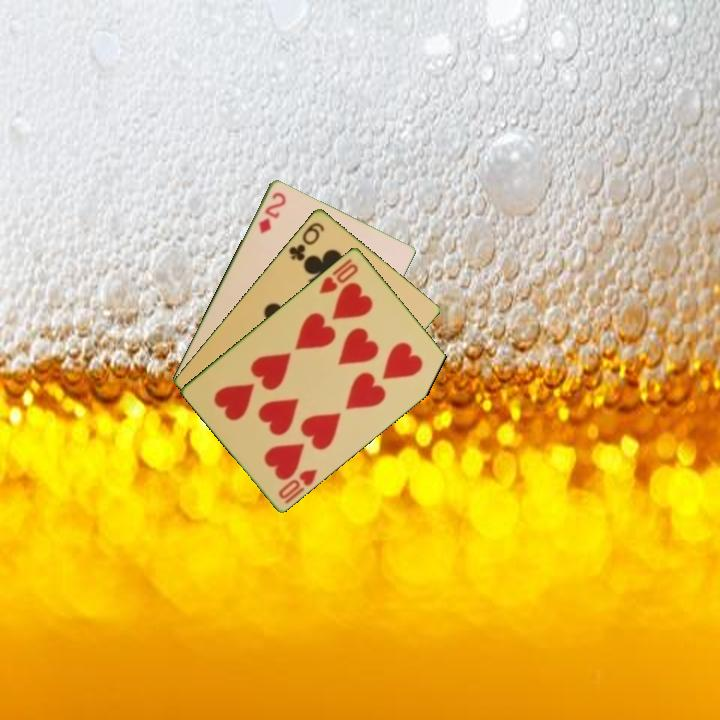10h: (275, 465, 321, 506), (315, 259, 361, 296)
2d: (255, 188, 289, 236)
6c: (285, 218, 327, 264)
